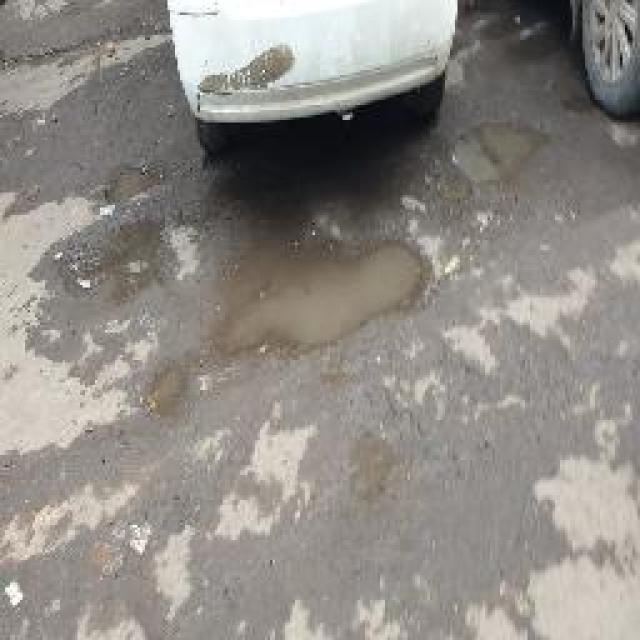stagnation: (194, 230, 445, 384), (435, 114, 564, 207)
